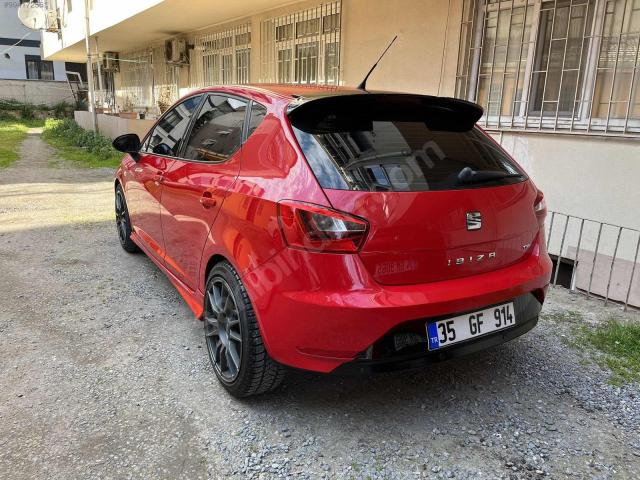plaka: (426, 302, 516, 350)
